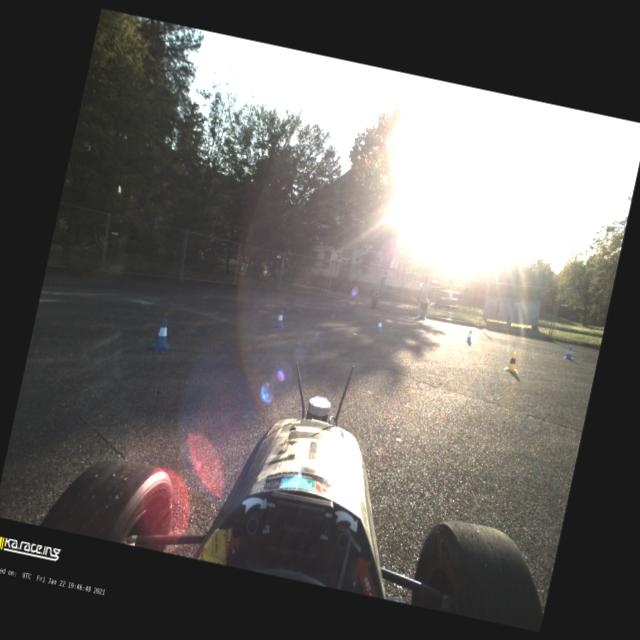blue_cone: (148, 316, 176, 352), (272, 308, 286, 328), (374, 318, 384, 334), (464, 329, 475, 343), (564, 346, 574, 360)
yellow_cone: (504, 350, 521, 373)
